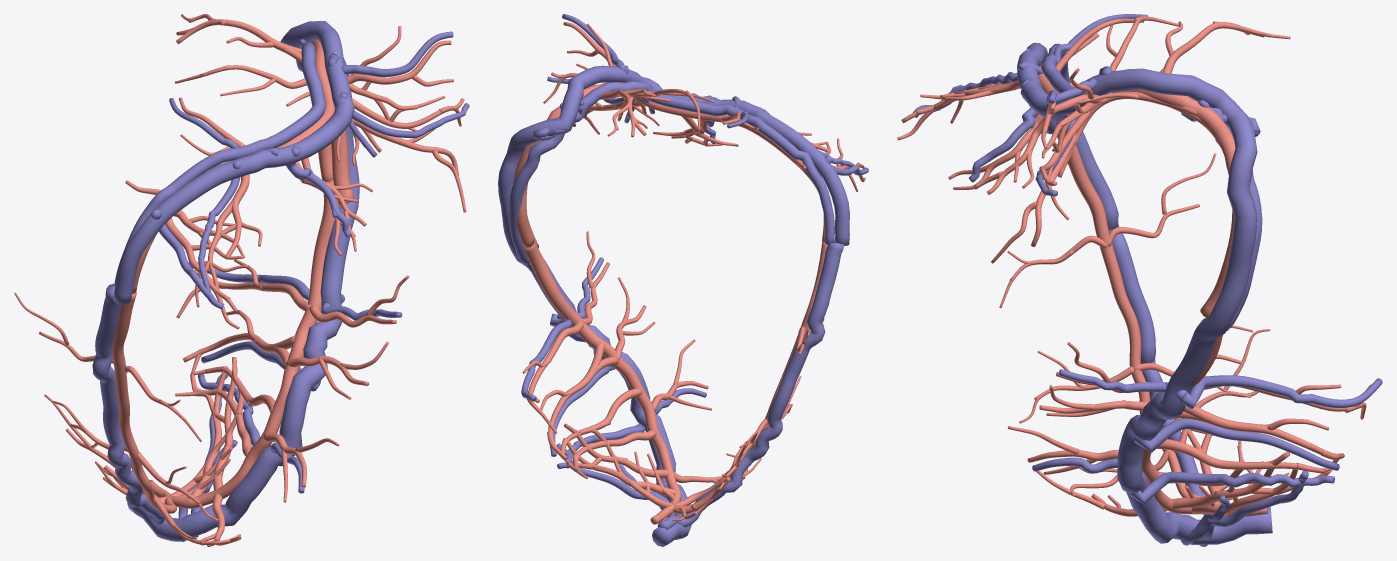
Rendered from vessels_14.glb.
3 views of the same model, side by side, from view 1: azimuth 30°, elevation 25°; view 2: azimuth 150°, elevation 25°; view 3: azimuth 270°, elevation 25° (orthographic). The views are drawn at different scales.
Visible parts, largest first — view 1: Renderer Node; view 2: Renderer Node; view 3: Renderer Node.
Part boxes in pixels (<box>): Renderer Node: <box>14,14,469,546</box>; Renderer Node: <box>498,14,868,546</box>; Renderer Node: <box>897,14,1382,546</box>.
Size of the model in its own units: 94.68 by 123 by 95.17.
